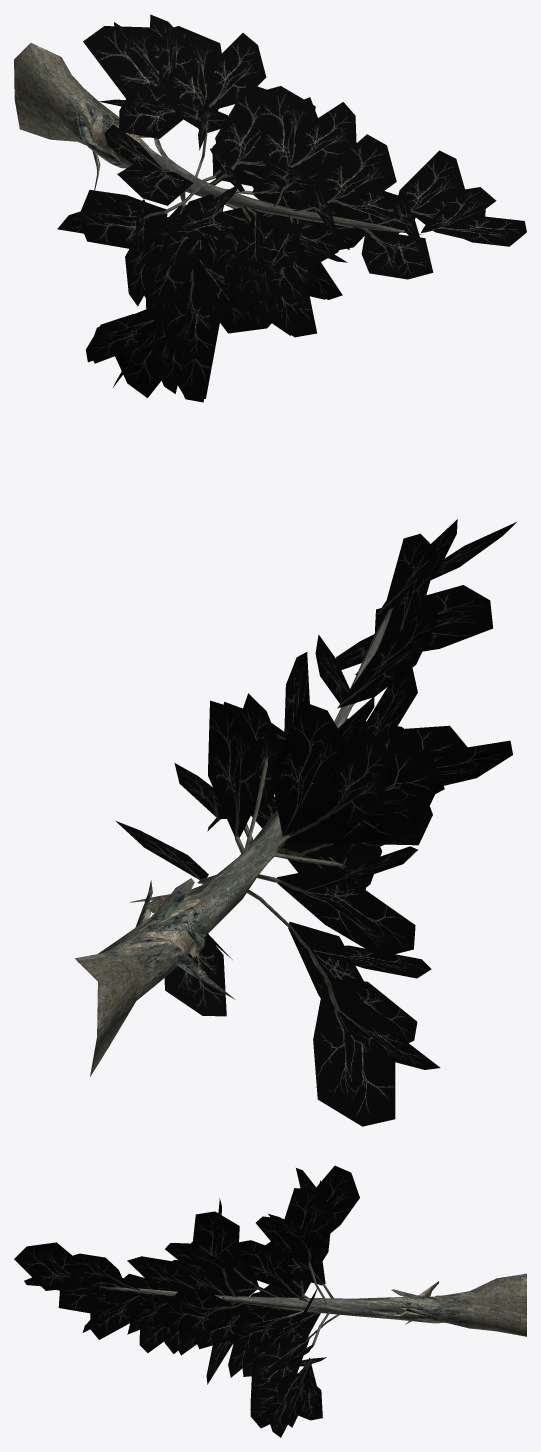
File: tree_destroyed_tree_b.glb
3 renders of one model, top to bottom at view 1: azimuth 30°, elevation 25°; view 2: azimuth 150°, elevation 25°; view 3: azimuth 270°, elevation 25°, orthographic. The views are drawn at different scales.
Size of the model in its own units: 182 by 222 by 396.
2 materials, 2 textured.
